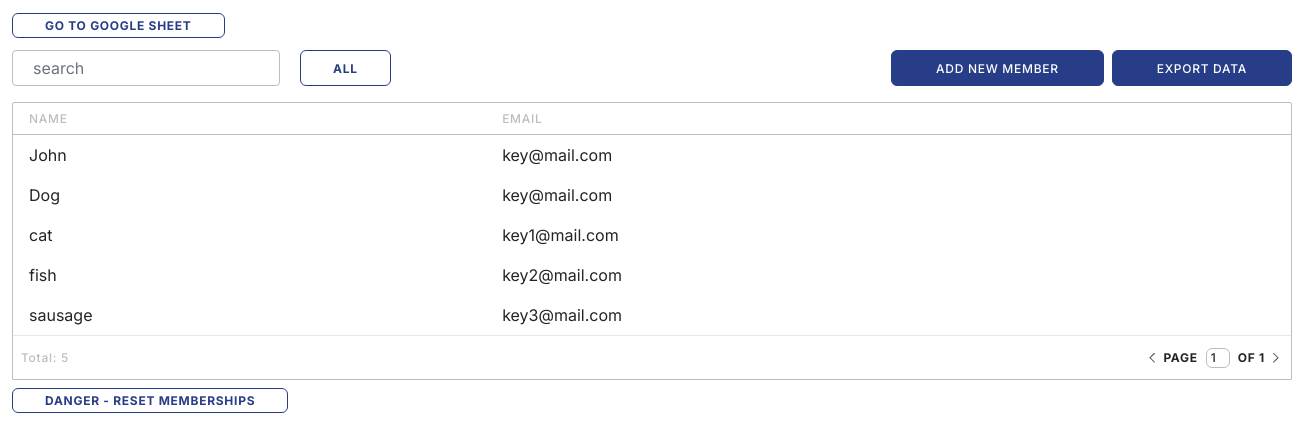
AdminMemberView › Filters the data properly by both name and email
The width and height of the screenshot is (1304, 430).
Step 1. Type "John" into the field with test id "search-input" → (146, 68), box [12,50,280,86]
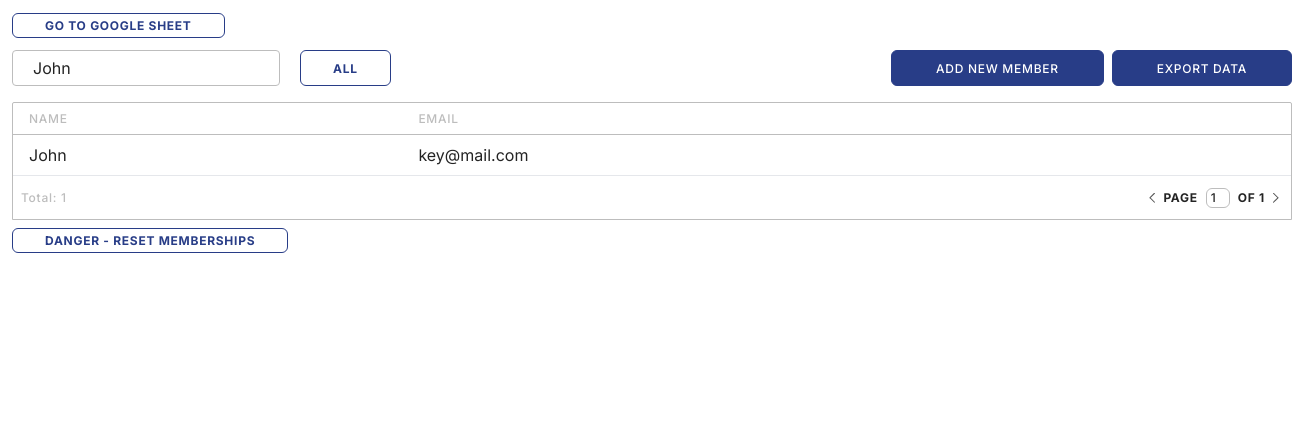
Expected: the text "Dog" is gone
Expected: the text "cat" is gone
Expected: the text "fish" is gone
Step 2. Clear the field with test id "search-input" → (146, 68), box [12,50,280,86]
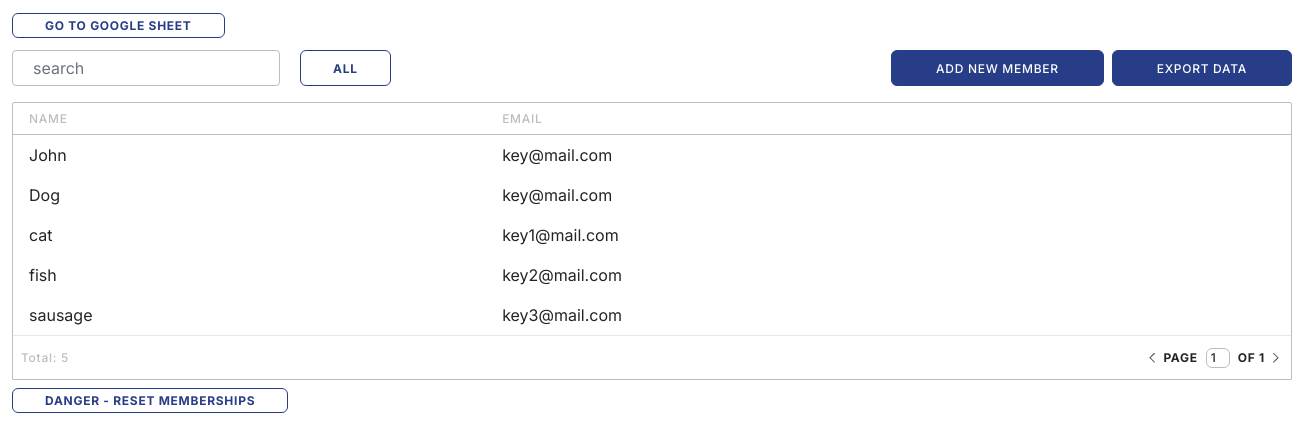
Expected: the text "Dog" is shown, [13,175,486,215]
Expected: the text "cat" is shown, [13,215,486,255]
Expected: the text "fish" is shown, [13,255,486,295]
Step 3. Type "key@" into the field with test id "search-input" → (146, 68), box [12,50,280,86]
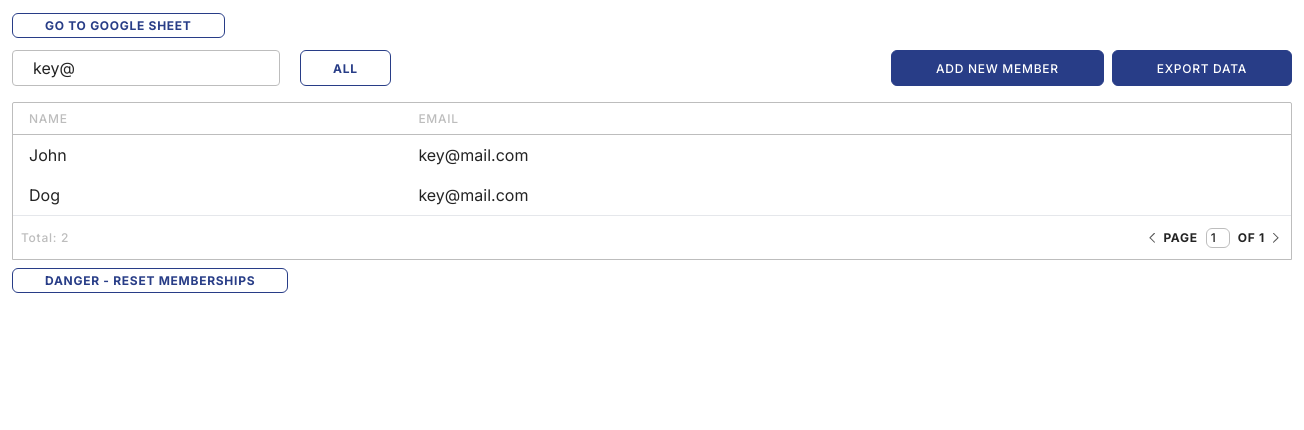
Expected: the text "Dog" is shown, [13,175,402,215]
Expected: the text "cat" is gone
Expected: the text "fish" is gone
